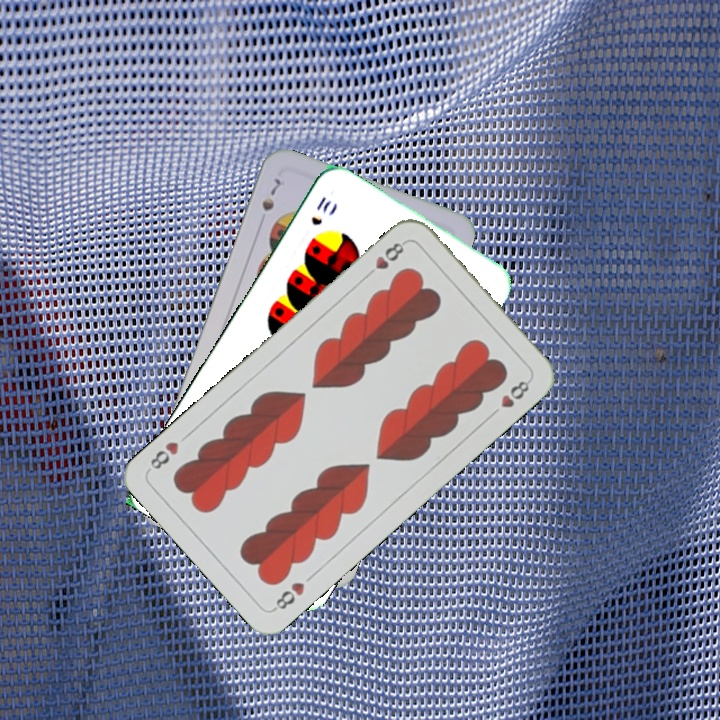H8: (361, 237, 409, 281), (268, 577, 308, 614)
S10: (307, 192, 334, 229)
S7: (257, 174, 284, 214)
